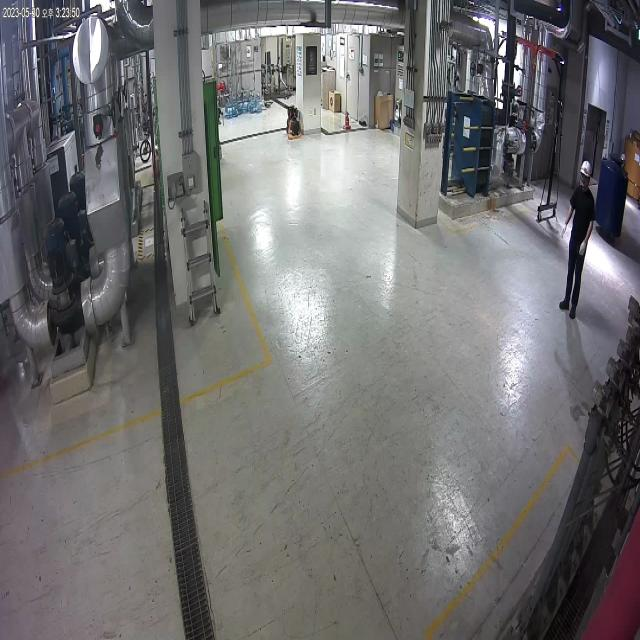Water Tank: (592, 149, 630, 242)
worker: (554, 152, 598, 325), (618, 147, 628, 174)
